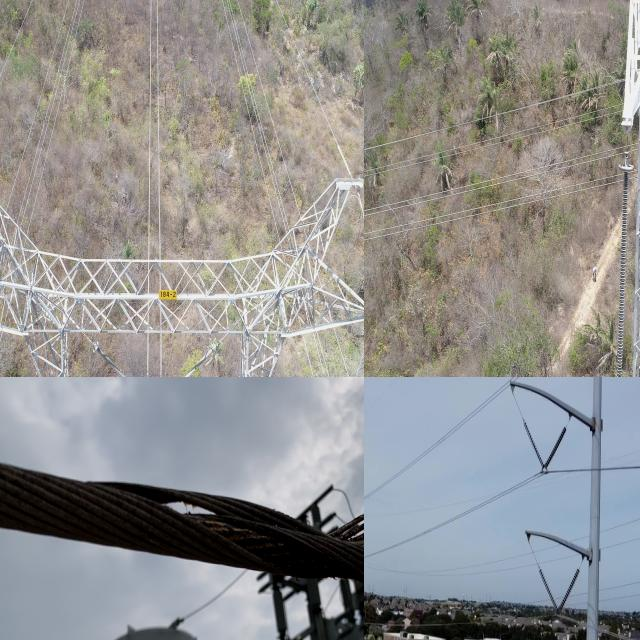杆塔: (0, 153, 364, 377)
正常绝缘子: (609, 133, 634, 377), (515, 401, 555, 484), (531, 413, 574, 489), (547, 557, 589, 627), (533, 553, 567, 624), (91, 339, 133, 377), (178, 341, 218, 377), (352, 339, 364, 377)
电缆破损: (105, 467, 364, 602)
